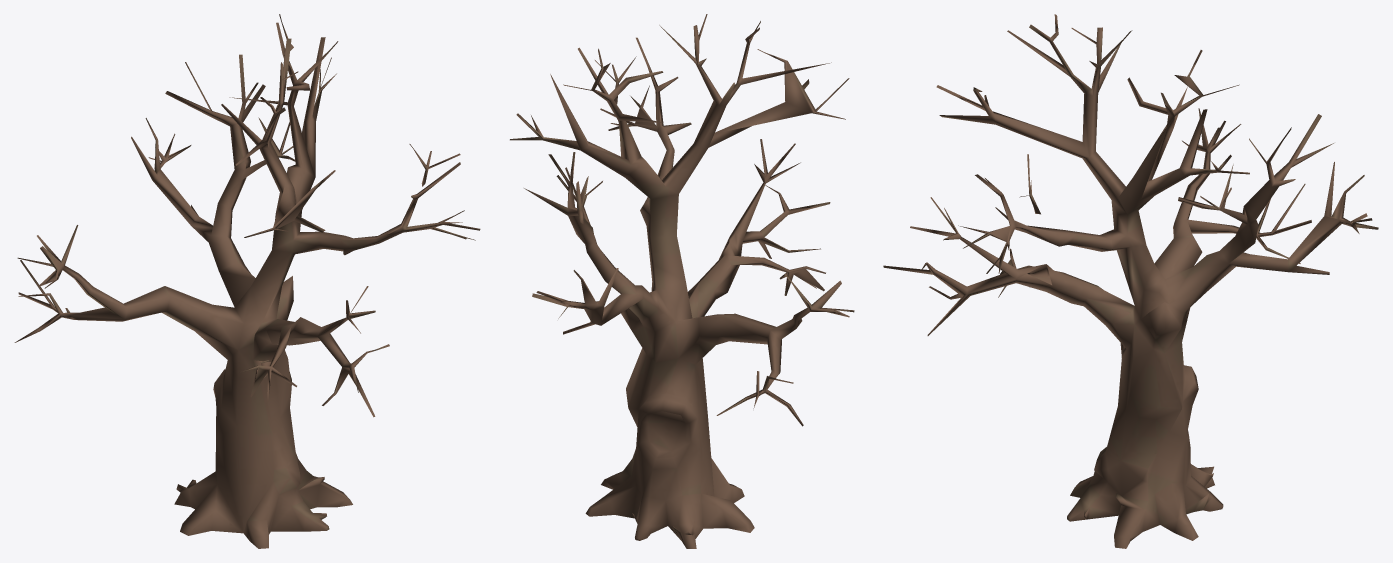
Rendered from deadtree.glb.
3 renders of one model, left to right at view 1: azimuth 30°, elevation 25°; view 2: azimuth 150°, elevation 25°; view 3: azimuth 270°, elevation 25°, orthographic. The views are drawn at different scales.
Visible parts, largest first — view 1: tripo_node_ed91242e-39bd-4904-8b25-02e197105fe8; view 2: tripo_node_ed91242e-39bd-4904-8b25-02e197105fe8; view 3: tripo_node_ed91242e-39bd-4904-8b25-02e197105fe8.
Part boxes in pixels (box(x1,y1,x2,y2)): tripo_node_ed91242e-39bd-4904-8b25-02e197105fe8: box(14, 14, 480, 548); tripo_node_ed91242e-39bd-4904-8b25-02e197105fe8: box(510, 14, 854, 548); tripo_node_ed91242e-39bd-4904-8b25-02e197105fe8: box(883, 14, 1378, 548).
Size of the model in its own units: 0.7518 by 1 by 0.9121.
1 material, 1 textured.
